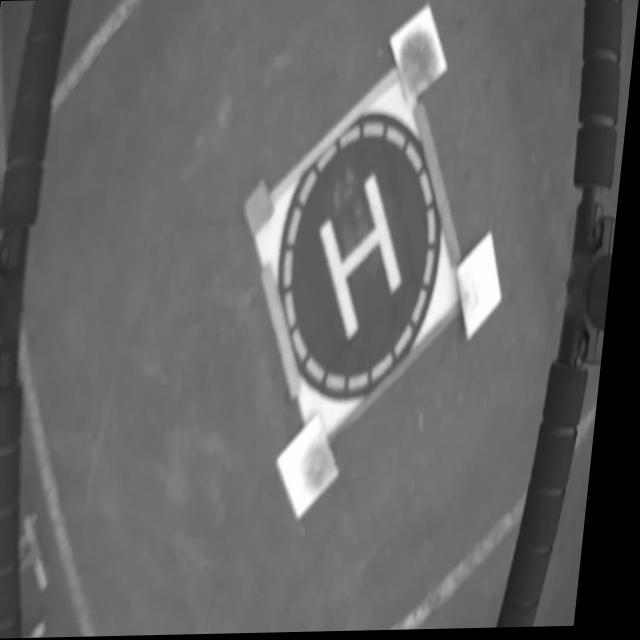Helipad: (323, 177, 408, 343)
